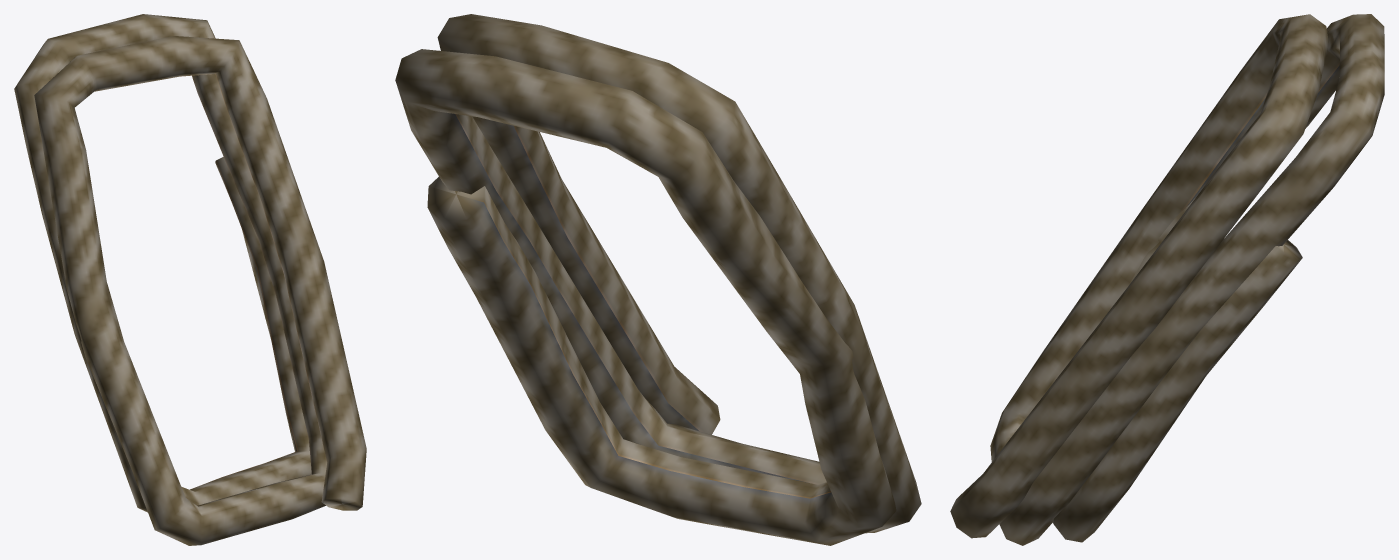
The model's file is SM_Rope-Wrap-Small45.fbx.
The picture shows the model from 3 angles, left to right: view 1: azimuth 30°, elevation 25°; view 2: azimuth 150°, elevation 25°; view 3: azimuth 270°, elevation 25°; orthographic projection. The views are drawn at different scales.
Visible parts, largest first — view 1: SM_Rope-Wrap-Small45_LOD0; view 2: SM_Rope-Wrap-Small45_LOD0; view 3: SM_Rope-Wrap-Small45_LOD0.
Boxes of the visible parts, x1,y1,x2,y2 form: SM_Rope-Wrap-Small45_LOD0: [14, 14, 366, 545]; SM_Rope-Wrap-Small45_LOD0: [395, 14, 921, 545]; SM_Rope-Wrap-Small45_LOD0: [950, 14, 1384, 545].
Bounding box in the file's own units: 19.2 × 26.42 × 31.01.
Materials: 1 (1 with a texture image).
